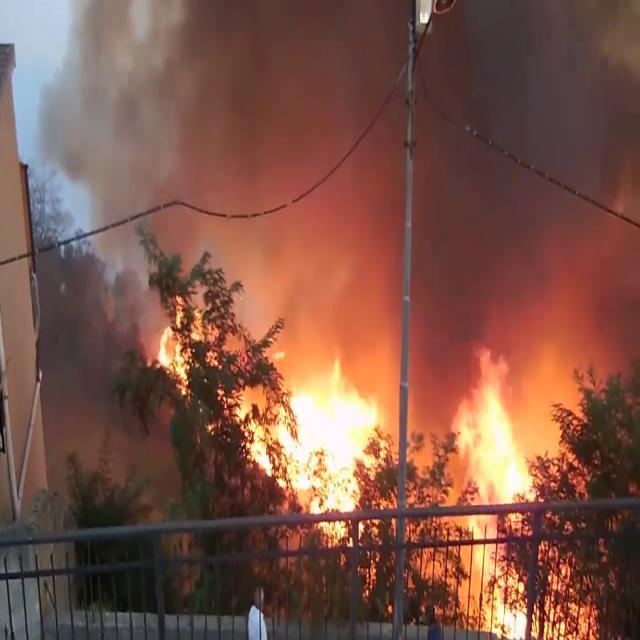Fire: (437, 364, 578, 636), (240, 351, 392, 530), (151, 292, 205, 392)
Smoke: (34, 0, 412, 292), (421, 1, 640, 368)
